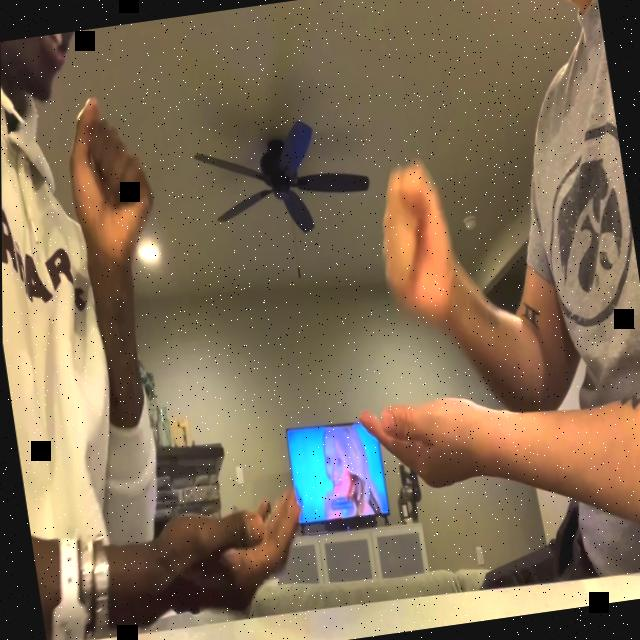Rock: (56, 90, 162, 273), (368, 153, 467, 334)
